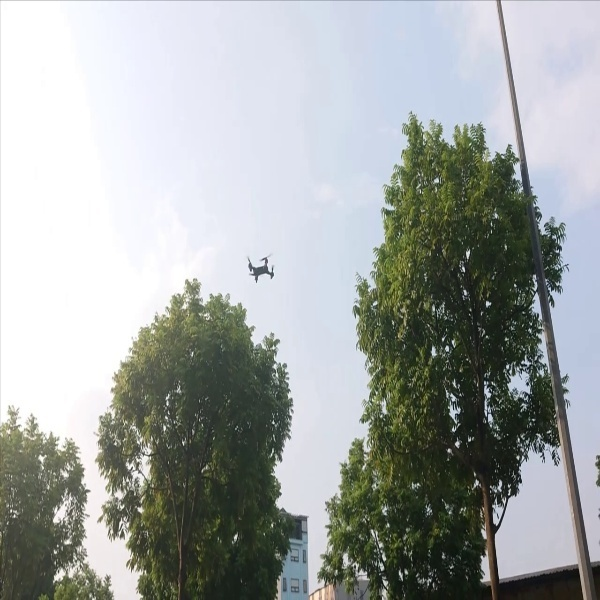drone: (239, 247, 278, 285)
